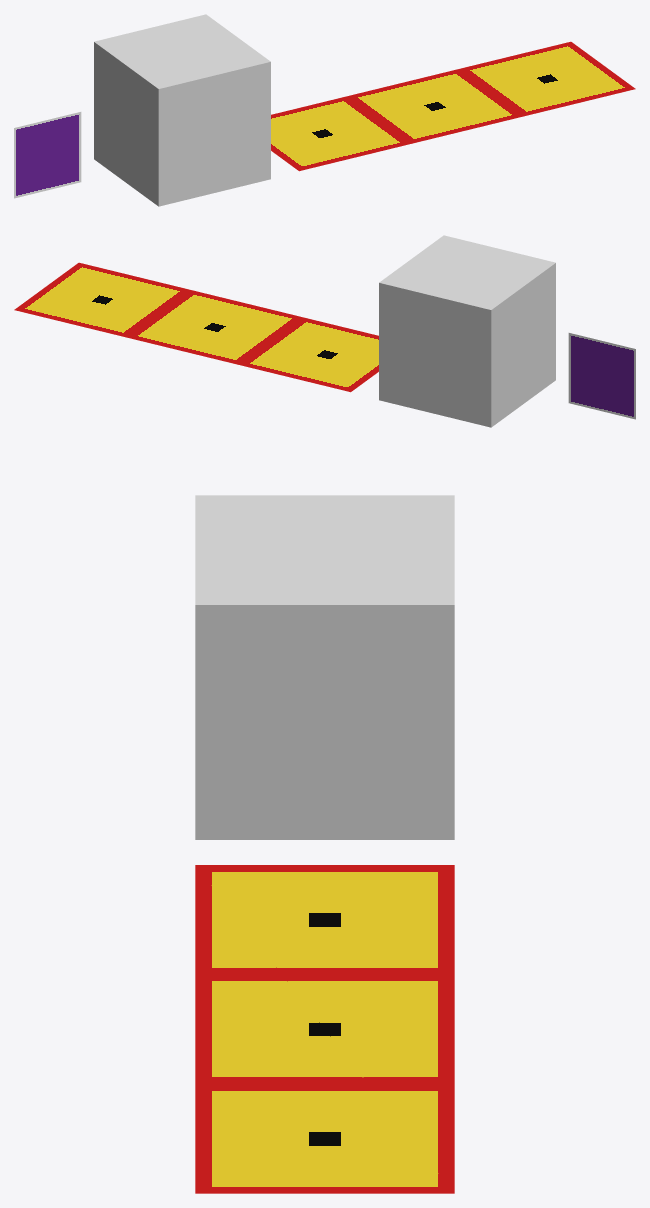
File: atlas.glb
3 renders of one model, top to bottom at view 1: azimuth 30°, elevation 25°; view 2: azimuth 150°, elevation 25°; view 3: azimuth 270°, elevation 25°, orthographic. The views are drawn at different scales.
Visible parts, largest first — view 1: collideur_atlas, bande, panneau_l32; view 2: collideur_atlas, bande, panneau_l32; view 3: collideur_atlas, bande.
Boxes of the visible parts, x1,y1,x2,y2 form: collideur_atlas: (94,14,270,206); bande: (271,41,635,171); panneau_l32: (14,112,81,198); collideur_atlas: (379,235,555,427); bande: (14,262,378,392); panneau_l32: (568,333,635,419); collideur_atlas: (195,495,454,839); bande: (195,865,454,1193).
Bounding box in the file's own units: 5.25 × 1 × 1.
Materials: 6 (6 with a texture image).
